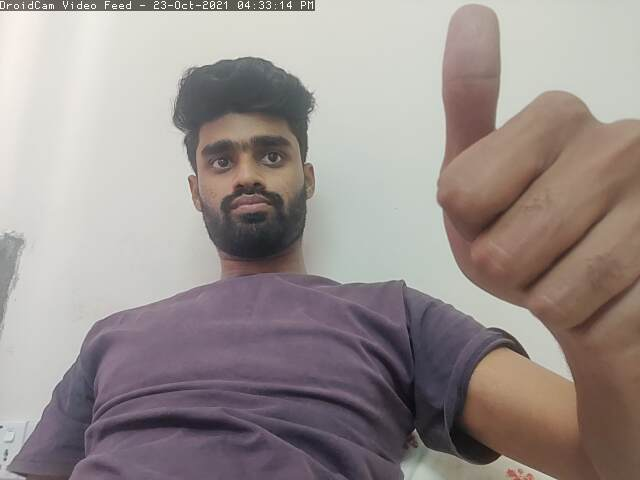ThumbsUp: (436, 1, 640, 361)
